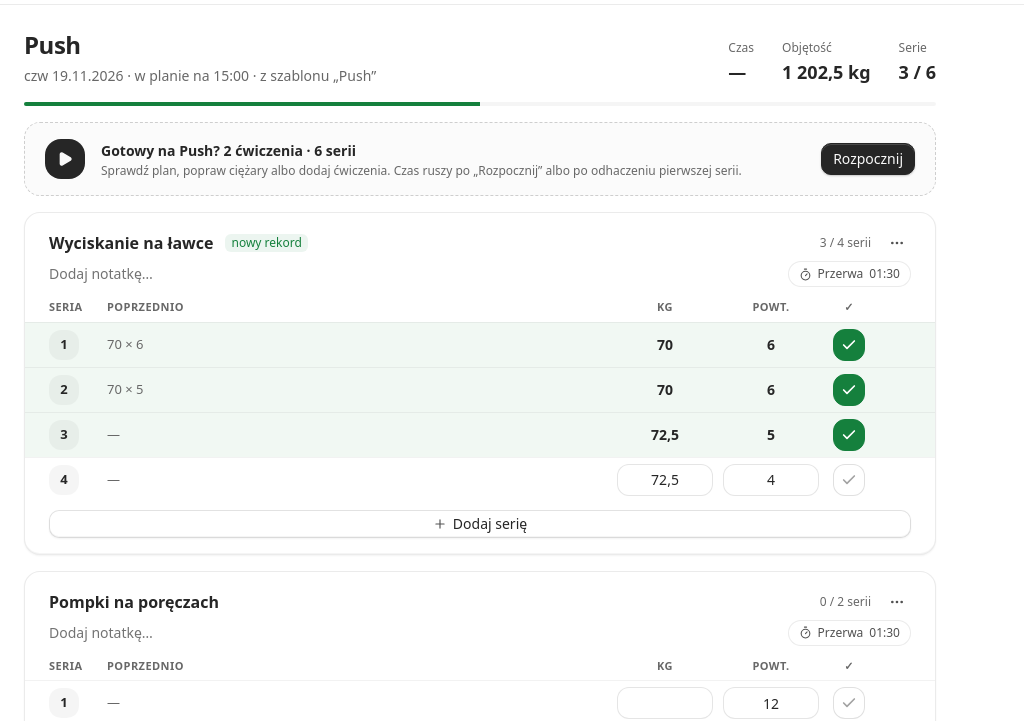
Test: dziennik przed startem i w trakcie › przed startem: ramka „Gotowy”, liczniki; „Rozpocznij” rusza licznik
Expected: the text "Gotowy na Push? 2 ćwiczenia · 6 serii" is shown, [101,140,356,160]
Expected: the text with test id "objetosc" reads "1 202,5 kg", [782,60,871,84]
Click the button "Rozpocznij" at coordinates (868, 159), box [821,143,915,175]
(page scrolled)
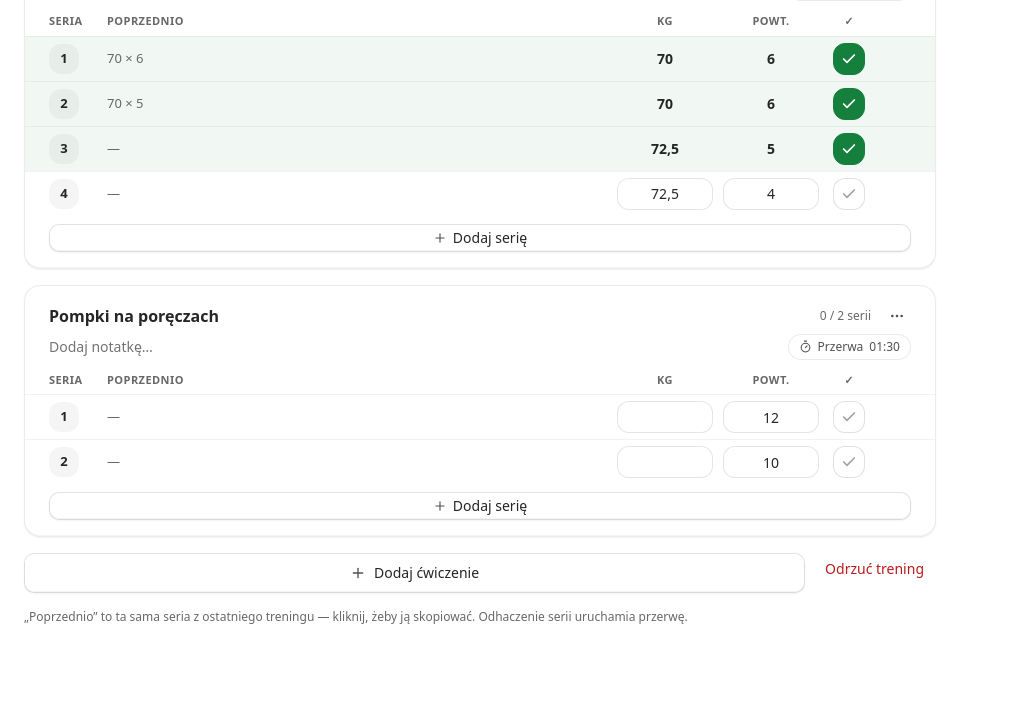
Result: the button "Odrzuć trening" is shown at [813,553,936,585]
Result: the text "Gotowy na Push" is gone
